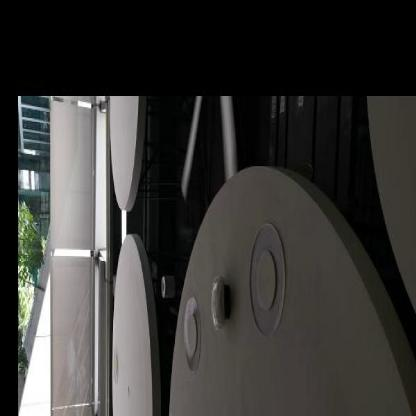light_off: (246, 206, 287, 350), (180, 276, 206, 374)
